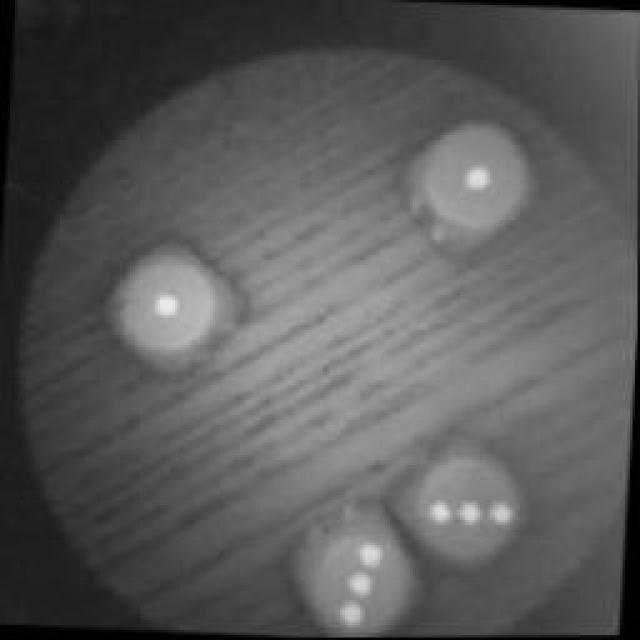dice_1: (400, 106, 550, 264), (100, 238, 250, 378)
dice_3: (393, 429, 545, 579), (282, 505, 432, 637)
